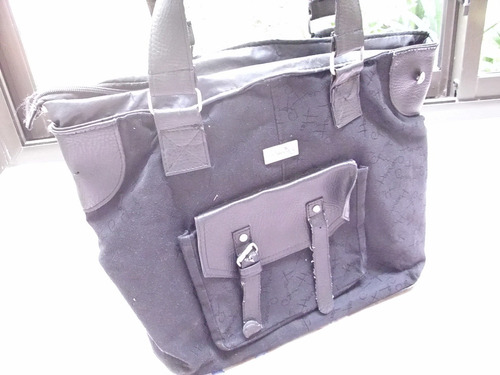cartera: (46, 50, 465, 364)
tela: (72, 104, 430, 358)
